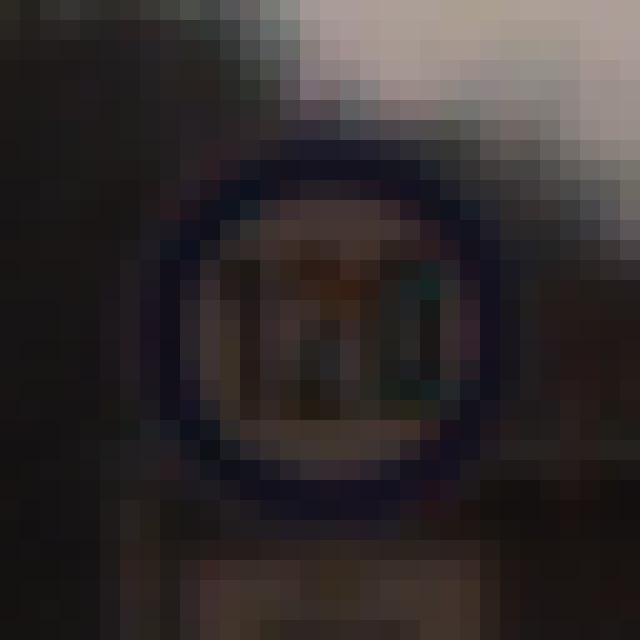SPEED LIMIT 120: (148, 165, 494, 504)
